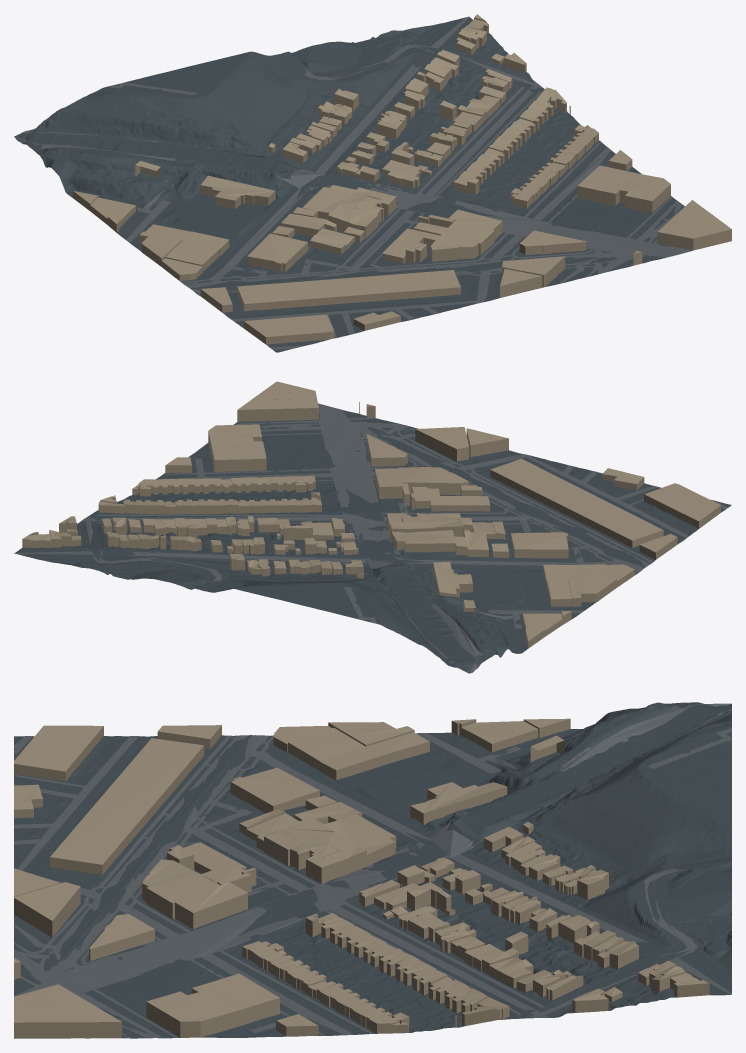
Rendered from epsg26910-1439-10877.lod0.glb.
3 renders of one model, top to bottom at view 1: azimuth 30°, elevation 25°; view 2: azimuth 150°, elevation 25°; view 3: azimuth 270°, elevation 25°, orthographic. The views are drawn at different scales.
Parts seen in each view (by area): view 1: epsg26910-1439-10877-lod0; view 2: epsg26910-1439-10877-lod0; view 3: epsg26910-1439-10877-lod0.
Part boxes in pixels (x1,y1,x2,y2): epsg26910-1439-10877-lod0: (14, 14, 731, 352); epsg26910-1439-10877-lod0: (14, 381, 731, 673); epsg26910-1439-10877-lod0: (14, 702, 731, 1038).
Bounding box in the file's own units: 384 × 41.9 × 384.
